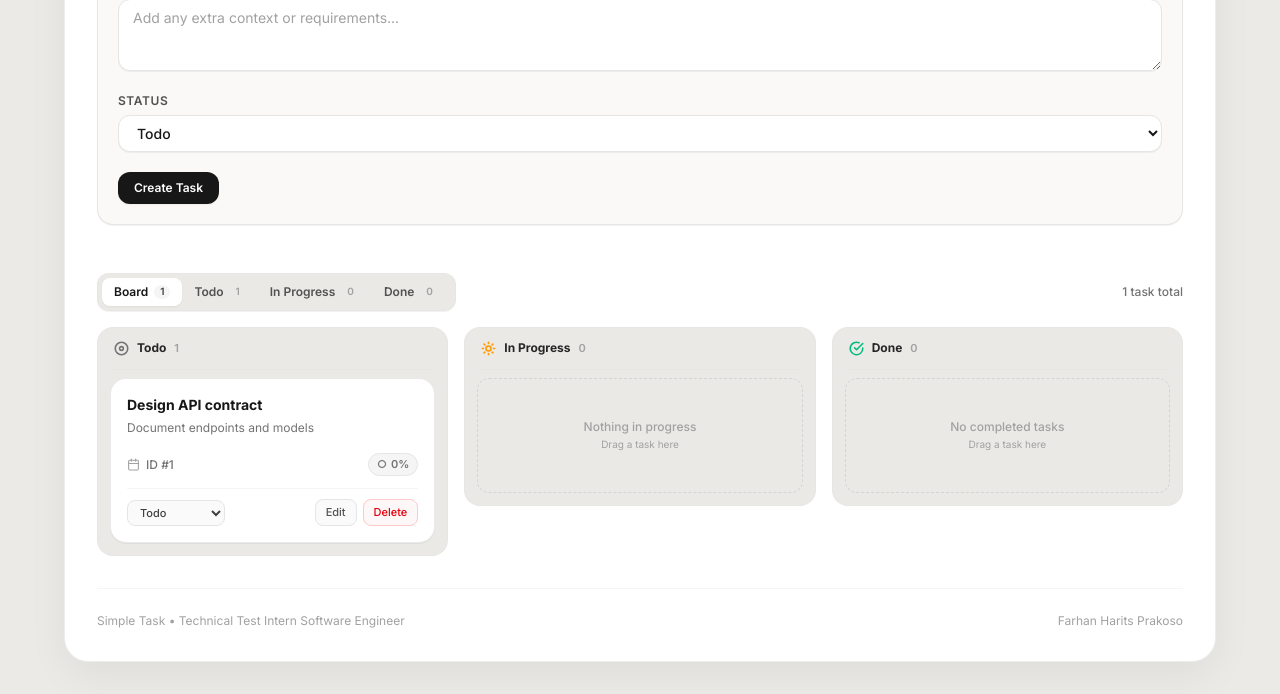
Test: Task Tracker App Component Tests (with Axios) › edits title and description in-place and saves via Axios PUT
(page scrolled)
Expected: the heading "Design API contract" is shown, x1=127 y1=396 x2=262 y2=412
Click the button with aria-label "edit task" at (336, 512), box x1=315 y1=499 x2=357 y2=526
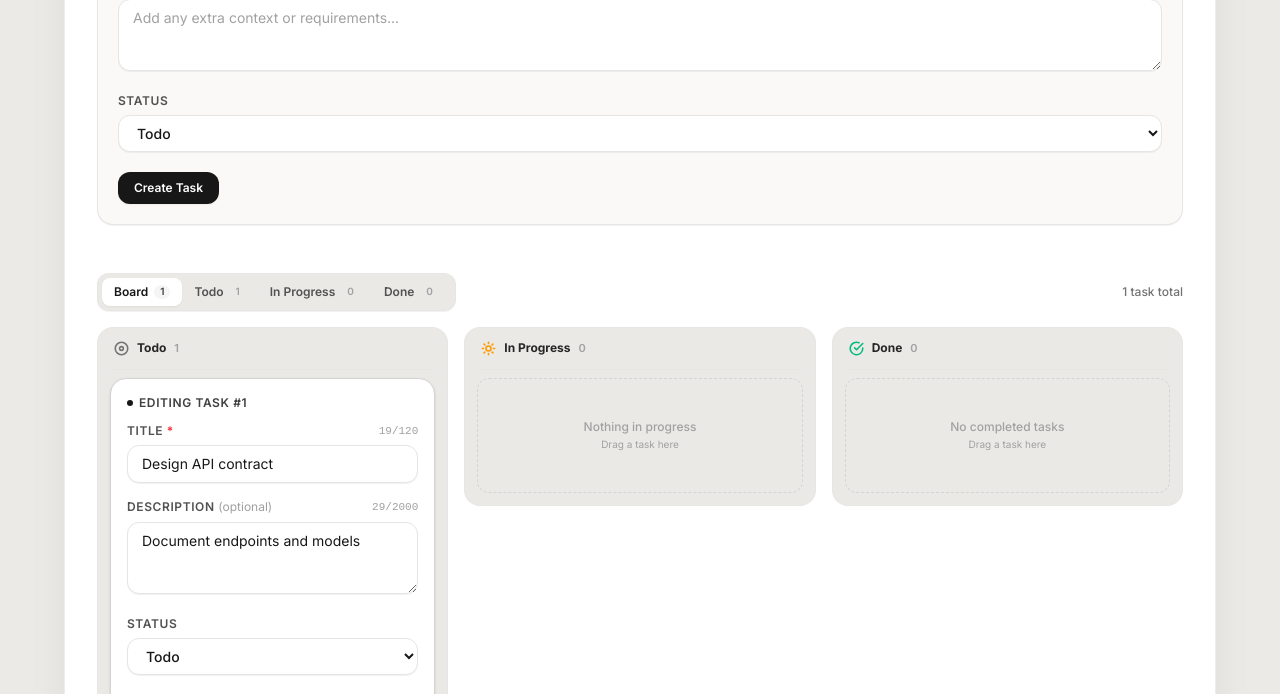
Replace the text in the field showing "Design API contract" with "Edited Contract Title" at (273, 464), box x1=127 y1=445 x2=418 y2=483
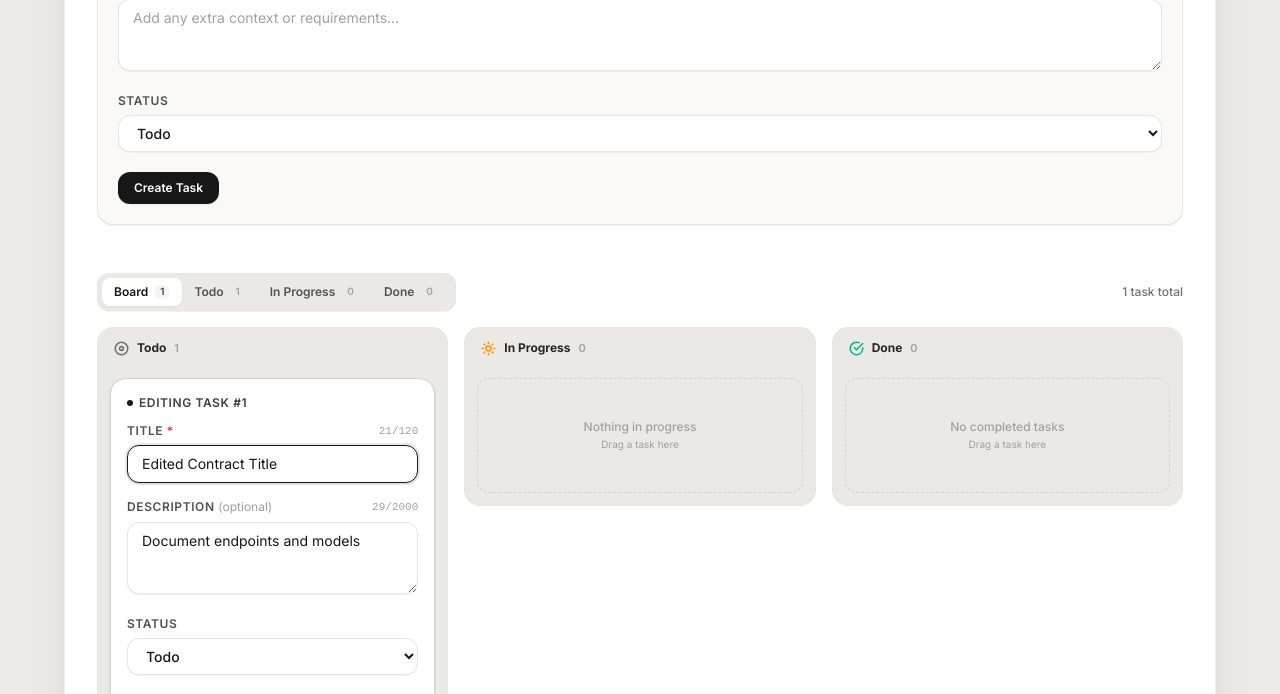
Replace the text in the text box showing "Document endpoints and models" below "29" with "Updated contract details" at (273, 558), box x1=127 y1=522 x2=418 y2=594
(page scrolled)
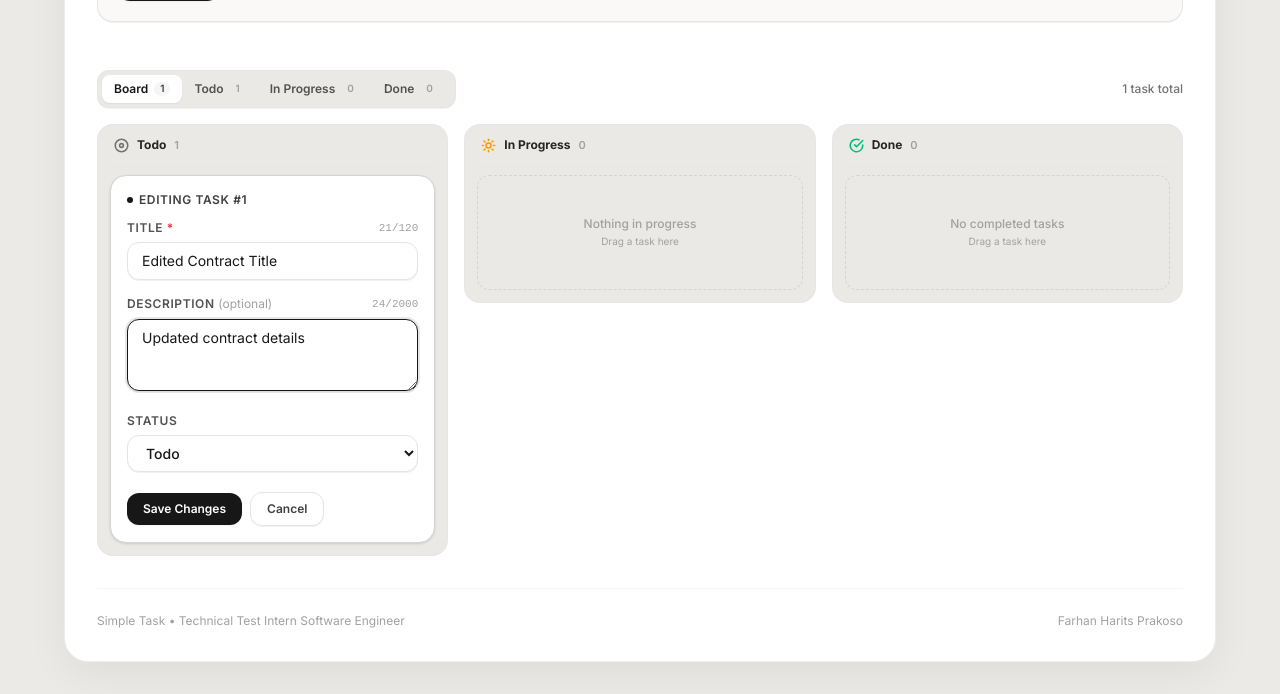
Click the button "Save Changes" at (185, 508), box x1=127 y1=492 x2=242 y2=524
(page scrolled)
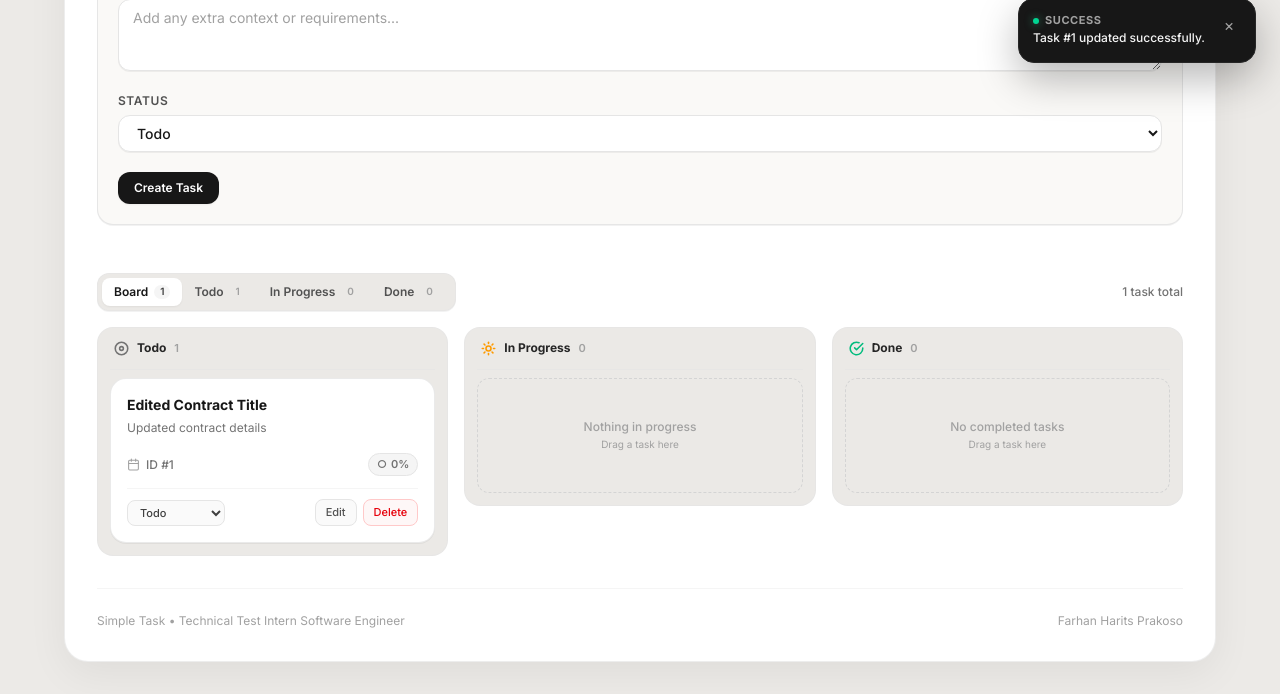
Now the heading "Edited Contract Title" is shown, box x1=127 y1=396 x2=267 y2=412
Now the text "Updated contract details" is shown, box x1=127 y1=420 x2=267 y2=435
